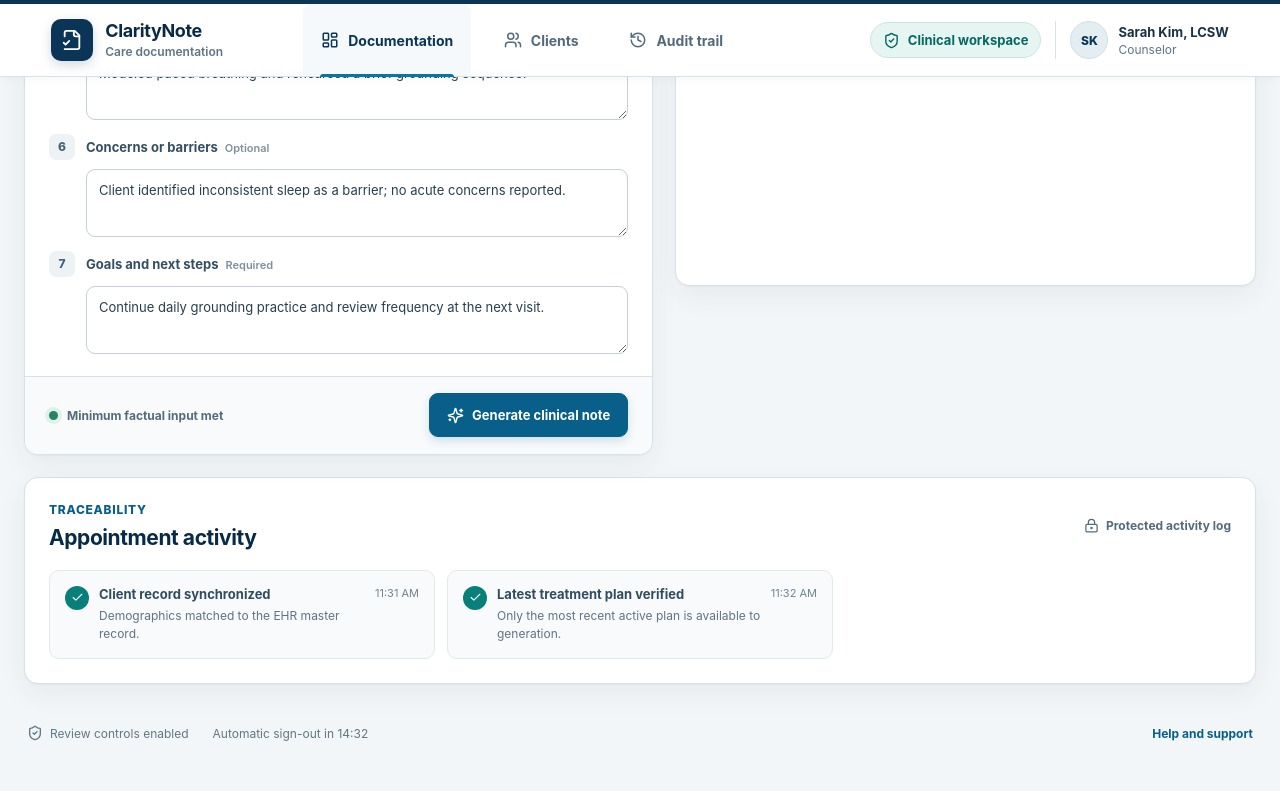
Test case: clinical documentation workspace › invalidates a draft when source facts or note type change
(page scrolled)
Step 1. Click the button "Generate clinical note" → [529, 415], box [429, 393, 628, 437]
(page scrolled)
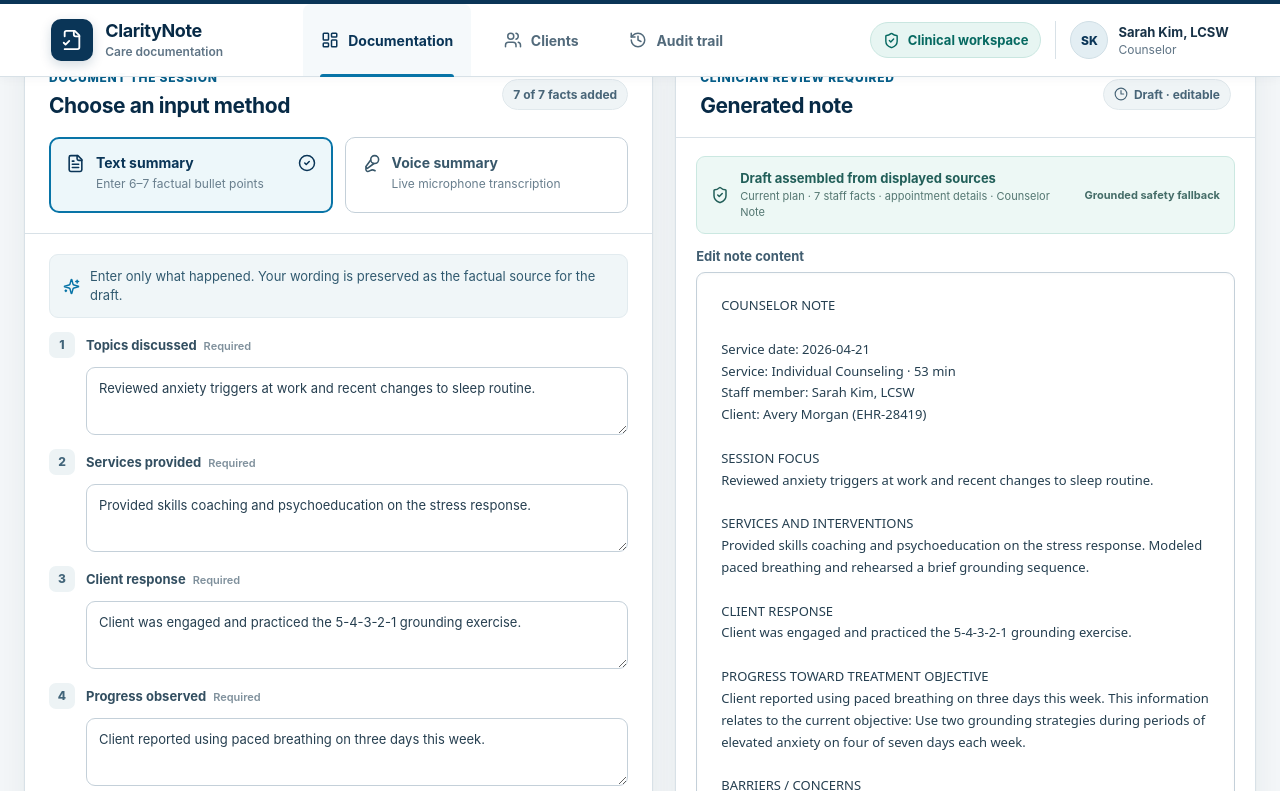
Step 2. Replace the text in the text box labelled "Topics discussed" with "A revised synthetic session topic." → [357, 401], box [86, 367, 628, 435]
(page scrolled)
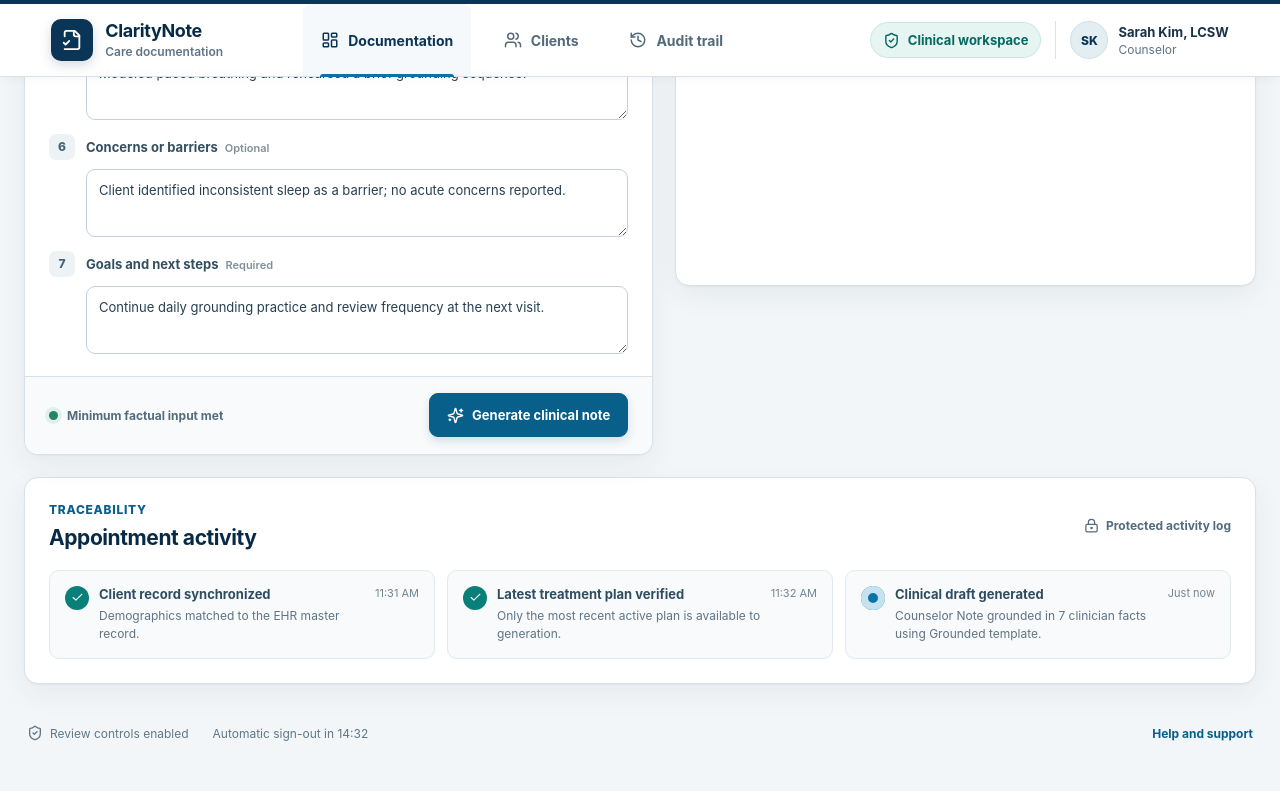
Expected: the label labelled "Edit note content" is not shown
Step 3. Click the button "Generate clinical note" → [529, 415], box [429, 393, 628, 437]
(page scrolled)
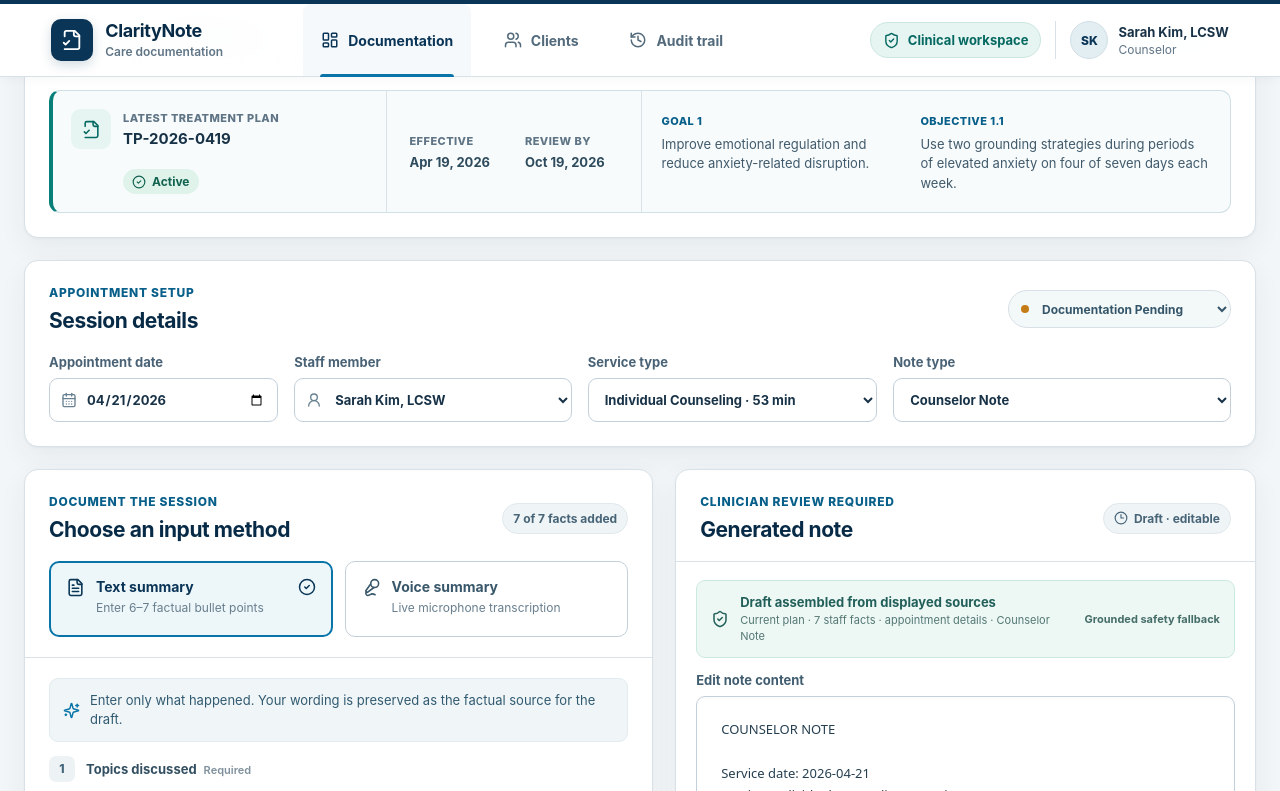
Step 4. Select "Nursing Progress Note" in the dropdown labelled "Note type" → [1062, 400], box [893, 378, 1231, 422]
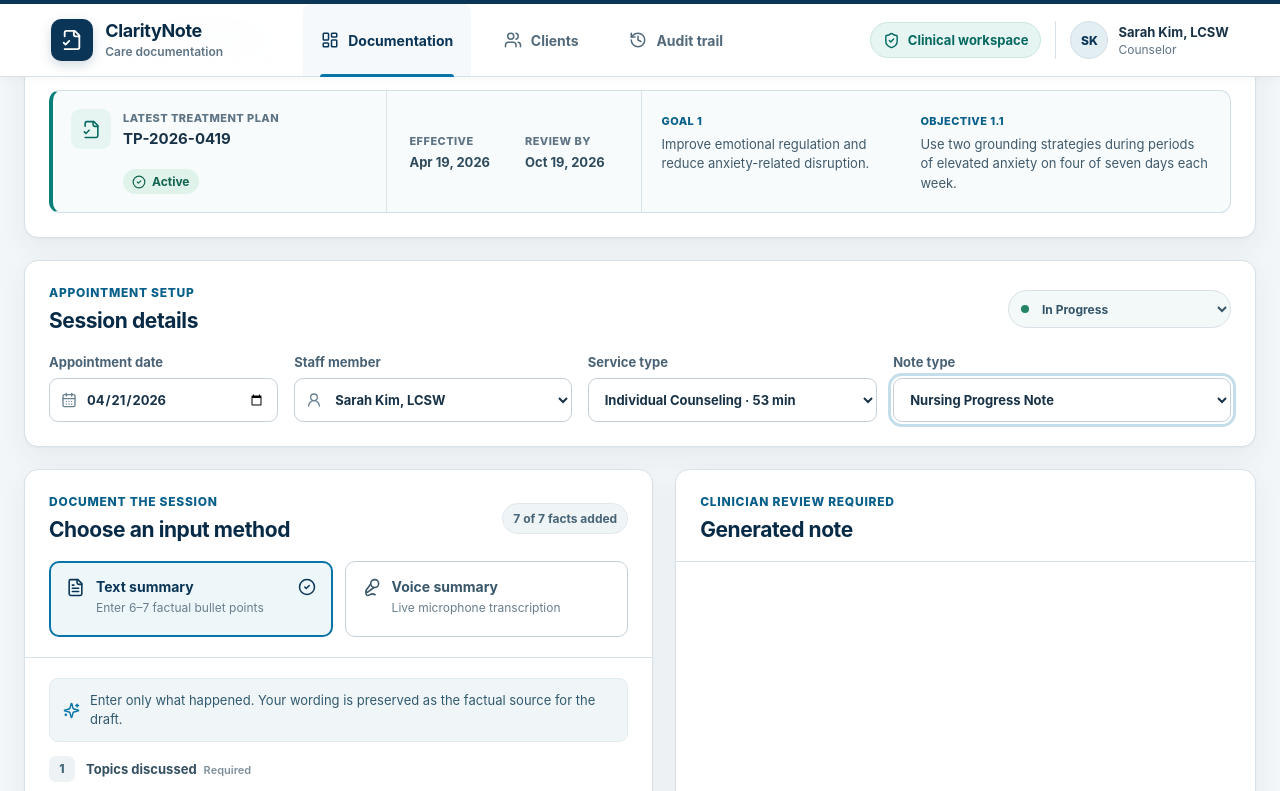
Result: the label labelled "Edit note content" is gone
